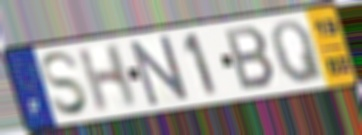1: (183, 29, 220, 100)
B: (222, 24, 279, 93)
H: (75, 41, 140, 116)
N: (127, 33, 192, 110)
Q: (269, 18, 328, 85)
S: (39, 49, 92, 119)
